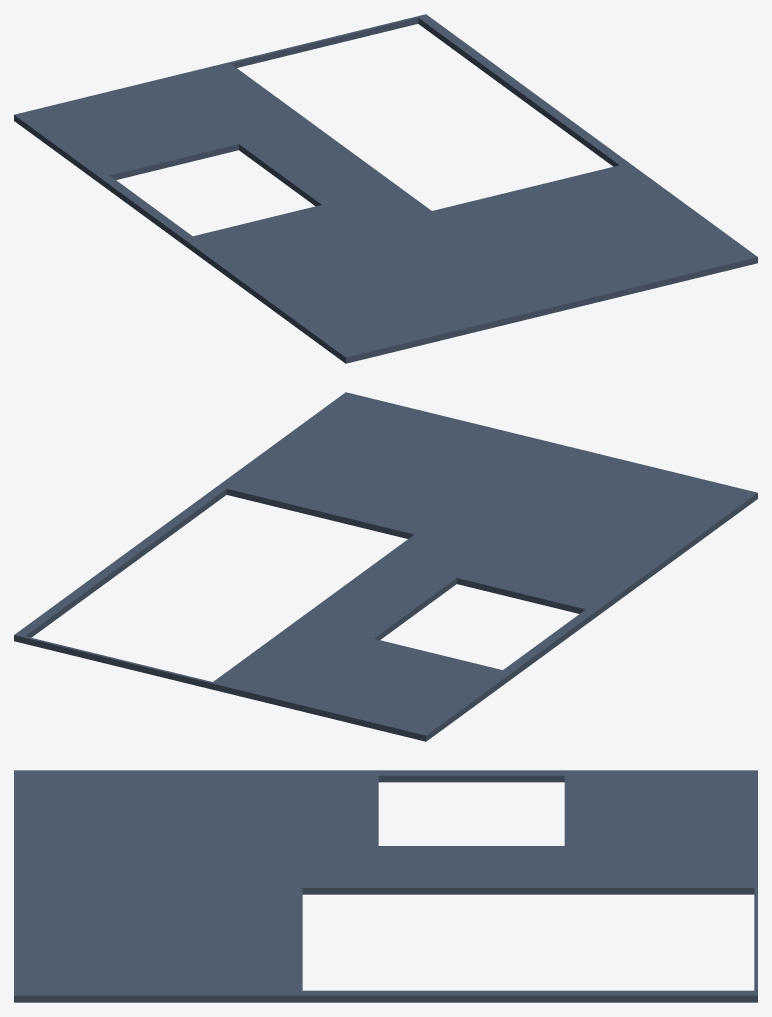
The model's file is floor_geometry.obj.
The picture shows the model from 3 angles, top to bottom: view 1: azimuth 30°, elevation 25°; view 2: azimuth 150°, elevation 25°; view 3: azimuth 270°, elevation 25°; orthographic projection. The views are drawn at different scales.
Parts seen in each view (by area): view 1: Floor_008_u_central_core_obschiy_vestibyul_vertikalno_floor, Floor_006_u_central_core_liftovoy_holl_floor, Floor_015_u_central_core_glavnaya_lestnica_floor, Floor_001_u_central_core_elektroschitovaya_floor, Floor_011_u_central_core_sluzhebnyy_dostup_1_5_m_floor, Floor_003_u_central_core_lift_floor, Floor_016_u_central_core_glavnaya_lestnica_floor, Floor_012_u_central_core_sluzhebnyy_dostup_1_5_m_floor, Floor_013_u_central_core_glavnaya_lestnica_floor; view 2: Floor_008_u_central_core_obschiy_vestibyul_vertikalno_floor, Floor_006_u_central_core_liftovoy_holl_floor, Floor_015_u_central_core_glavnaya_lestnica_floor, Floor_001_u_central_core_elektroschitovaya_floor, Floor_011_u_central_core_sluzhebnyy_dostup_1_5_m_floor, Floor_003_u_central_core_lift_floor, Floor_016_u_central_core_glavnaya_lestnica_floor, Floor_004_u_central_core_lift_floor, Floor_012_u_central_core_sluzhebnyy_dostup_1_5_m_floor, Floor_013_u_central_core_glavnaya_lestnica_floor; view 3: Floor_008_u_central_core_obschiy_vestibyul_vertikalno_floor, Floor_015_u_central_core_glavnaya_lestnica_floor, Floor_006_u_central_core_liftovoy_holl_floor, Floor_001_u_central_core_elektroschitovaya_floor, Floor_011_u_central_core_sluzhebnyy_dostup_1_5_m_floor, Floor_003_u_central_core_lift_floor, Floor_012_u_central_core_sluzhebnyy_dostup_1_5_m_floor, Floor_013_u_central_core_glavnaya_lestnica_floor, Floor_005_u_central_core_lift_floor, Floor_010_u_central_core_sluzhebnyy_dostup_1_5_m_floor, Floor_002_u_central_core_elektroschitovaya_floor, Floor_009_u_central_core_sluzhebnyy_dostup_1_5_m_floor (+3 smaller).
Part boxes in pixels (<box>): Floor_008_u_central_core_obschiy_vestibyul_vertikalno_floor: <box>261,195,757,363</box>; Floor_006_u_central_core_liftovoy_holl_floor: <box>184,190,461,301</box>; Floor_015_u_central_core_glavnaya_lestnica_floor: <box>225,14,672,243</box>; Floor_001_u_central_core_elektroschitovaya_floor: <box>14,80,236,179</box>; Floor_011_u_central_core_sluzhebnyy_dostup_1_5_m_floor: <box>166,65,385,202</box>; Floor_003_u_central_core_lift_floor: <box>95,139,326,244</box>; Floor_016_u_central_core_glavnaya_lestnica_floor: <box>229,16,418,67</box>; Floor_012_u_central_core_sluzhebnyy_dostup_1_5_m_floor: <box>216,64,389,189</box>; Floor_013_u_central_core_glavnaya_lestnica_floor: <box>220,63,393,188</box>; Floor_008_u_central_core_obschiy_vestibyul_vertikalno_floor: <box>261,392,757,560</box>; Floor_006_u_central_core_liftovoy_holl_floor: <box>395,506,672,616</box>; Floor_015_u_central_core_glavnaya_lestnica_floor: <box>14,454,461,690</box>; Floor_001_u_central_core_elektroschitovaya_floor: <box>283,641,506,741</box>; Floor_011_u_central_core_sluzhebnyy_dostup_1_5_m_floor: <box>224,562,444,704</box>; Floor_003_u_central_core_lift_floor: <box>364,576,596,682</box>; Floor_016_u_central_core_glavnaya_lestnica_floor: <box>23,636,212,689</box>; Floor_004_u_central_core_lift_floor: <box>456,577,586,613</box>; Floor_012_u_central_core_sluzhebnyy_dostup_1_5_m_floor: <box>220,561,394,692</box>; Floor_013_u_central_core_glavnaya_lestnica_floor: <box>215,559,389,691</box>; Floor_008_u_central_core_obschiy_vestibyul_vertikalno_floor: <box>14,770,204,1002</box>; Floor_015_u_central_core_glavnaya_lestnica_floor: <box>204,885,757,1002</box>; Floor_006_u_central_core_liftovoy_holl_floor: <box>204,770,376,880</box>; Floor_001_u_central_core_elektroschitovaya_floor: <box>576,770,757,848</box>; Floor_011_u_central_core_sluzhebnyy_dostup_1_5_m_floor: <box>376,853,757,880</box>; Floor_003_u_central_core_lift_floor: <box>376,770,576,848</box>; Floor_012_u_central_core_sluzhebnyy_dostup_1_5_m_floor: <box>376,880,757,882</box>; Floor_013_u_central_core_glavnaya_lestnica_floor: <box>376,883,757,885</box>; Floor_005_u_central_core_lift_floor: <box>376,848,576,850</box>; Floor_010_u_central_core_sluzhebnyy_dostup_1_5_m_floor: <box>376,851,576,853</box>; Floor_002_u_central_core_elektroschitovaya_floor: <box>576,848,757,850</box>; Floor_009_u_central_core_sluzhebnyy_dostup_1_5_m_floor: <box>576,851,757,853</box>.
Bounding box in the file's own units: 14.05 × 0.2 × 19.6.
